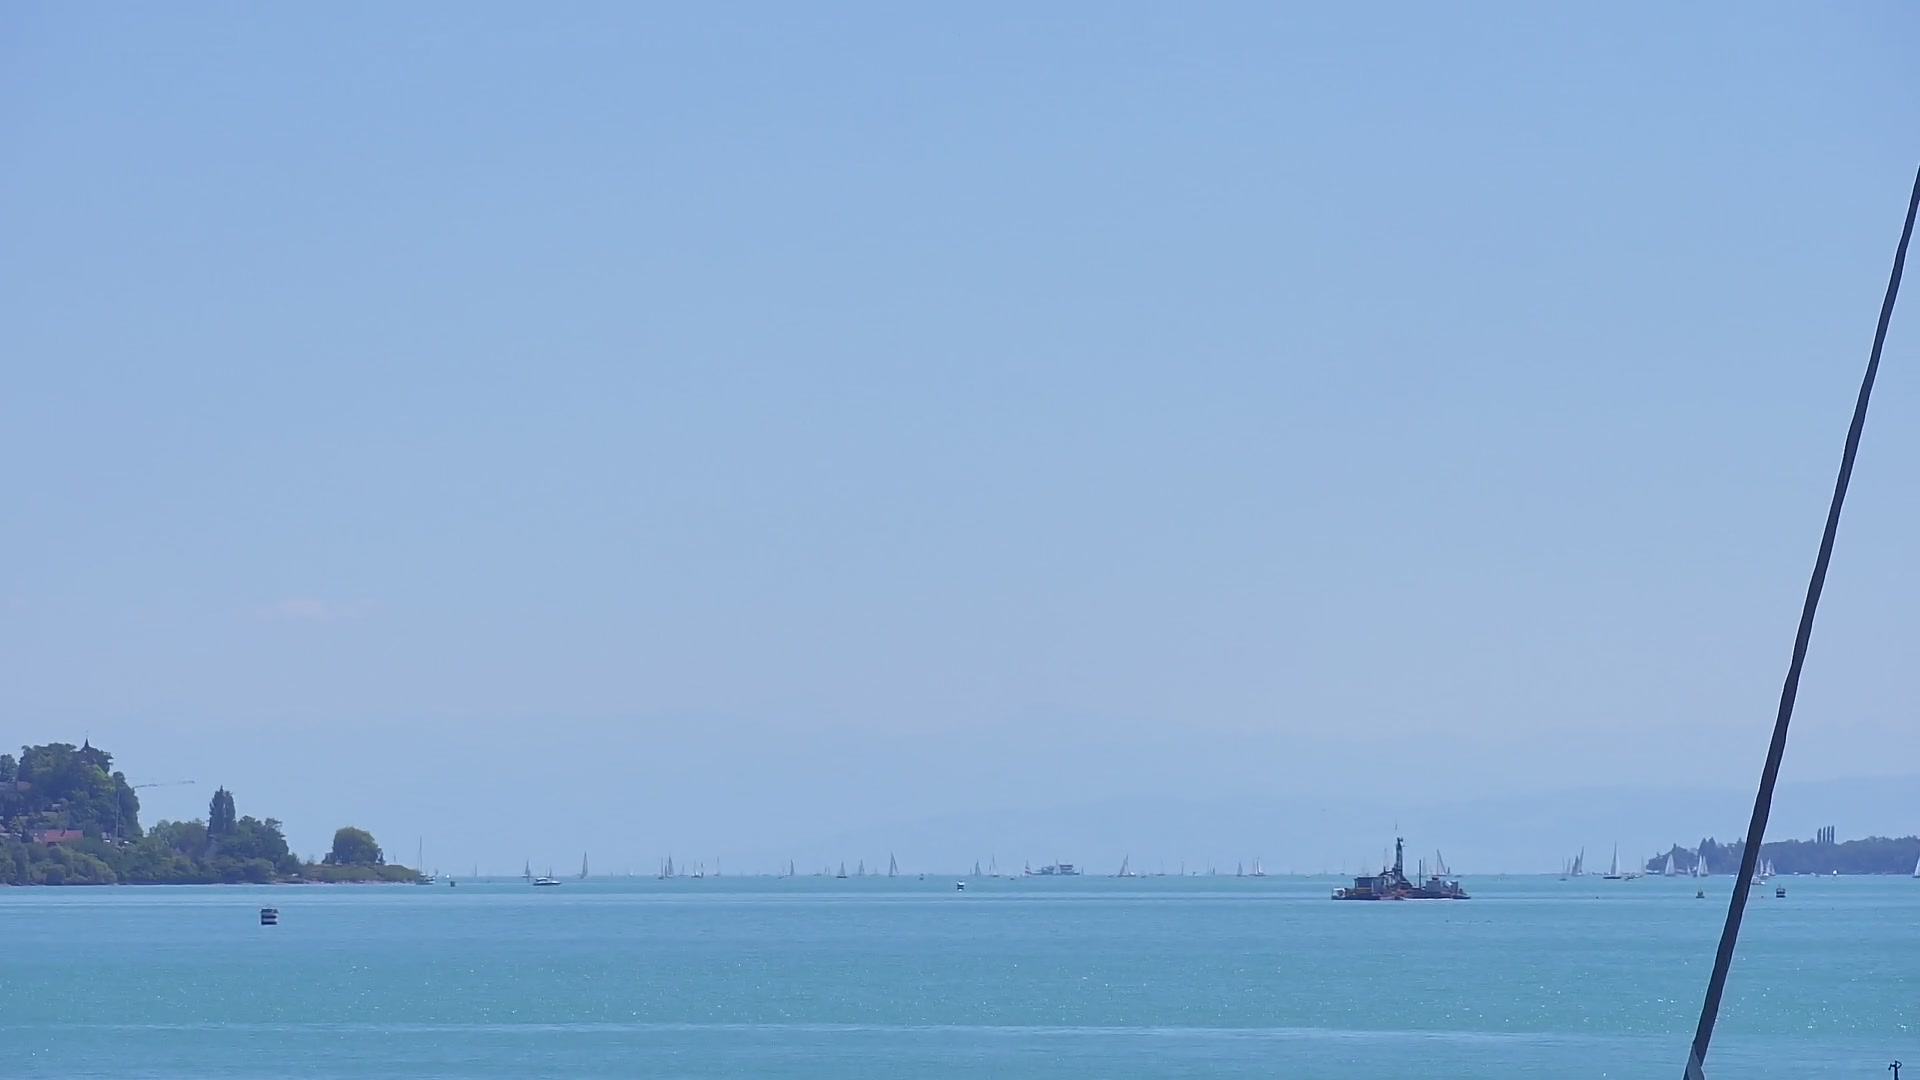sea: (415, 833, 436, 884), (1604, 841, 1622, 880), (1035, 862, 1081, 876), (1429, 847, 1448, 878), (1118, 853, 1135, 877), (1571, 847, 1584, 877), (887, 851, 899, 880), (533, 877, 560, 887), (1664, 852, 1676, 876), (989, 851, 1000, 877), (578, 851, 587, 880), (1557, 855, 1567, 881), (1756, 858, 1768, 878), (1764, 857, 1776, 876), (691, 860, 702, 880), (666, 853, 674, 878), (712, 856, 721, 877), (836, 860, 847, 878), (1255, 855, 1265, 876), (1698, 855, 1708, 876), (657, 856, 665, 880), (1912, 855, 1920, 878), (522, 858, 531, 878), (1155, 856, 1164, 876), (1636, 855, 1644, 877), (857, 858, 866, 876), (1052, 858, 1062, 876), (787, 858, 795, 877), (975, 858, 982, 876), (1025, 860, 1033, 876), (1236, 862, 1244, 877), (678, 864, 684, 877)
